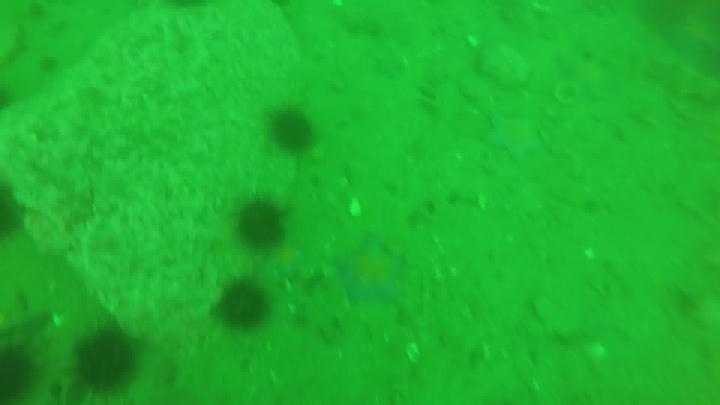echinus: (69, 323, 141, 397), (214, 277, 272, 331), (234, 196, 289, 251), (266, 106, 317, 157), (1, 343, 37, 404), (1, 181, 29, 243)
holothurian: (643, 53, 719, 106)
starfish: (331, 235, 410, 309), (483, 111, 544, 164), (554, 54, 617, 102), (661, 14, 719, 61), (263, 239, 308, 282)
